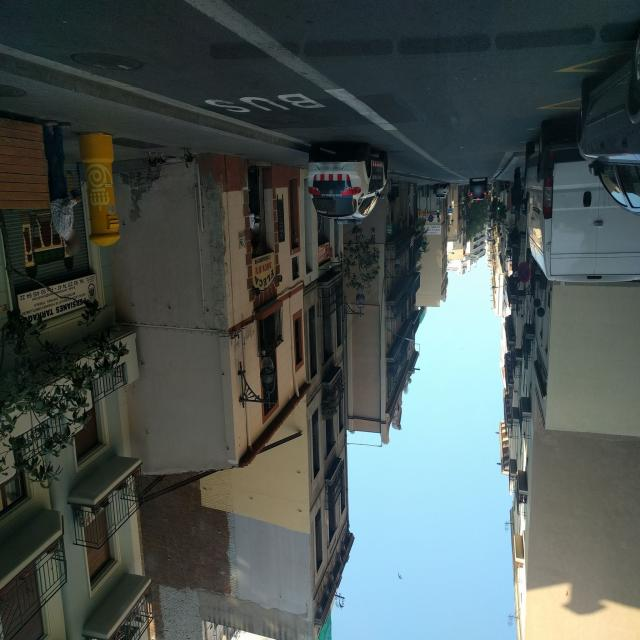forb_stopping: (206, 418, 212, 426)
